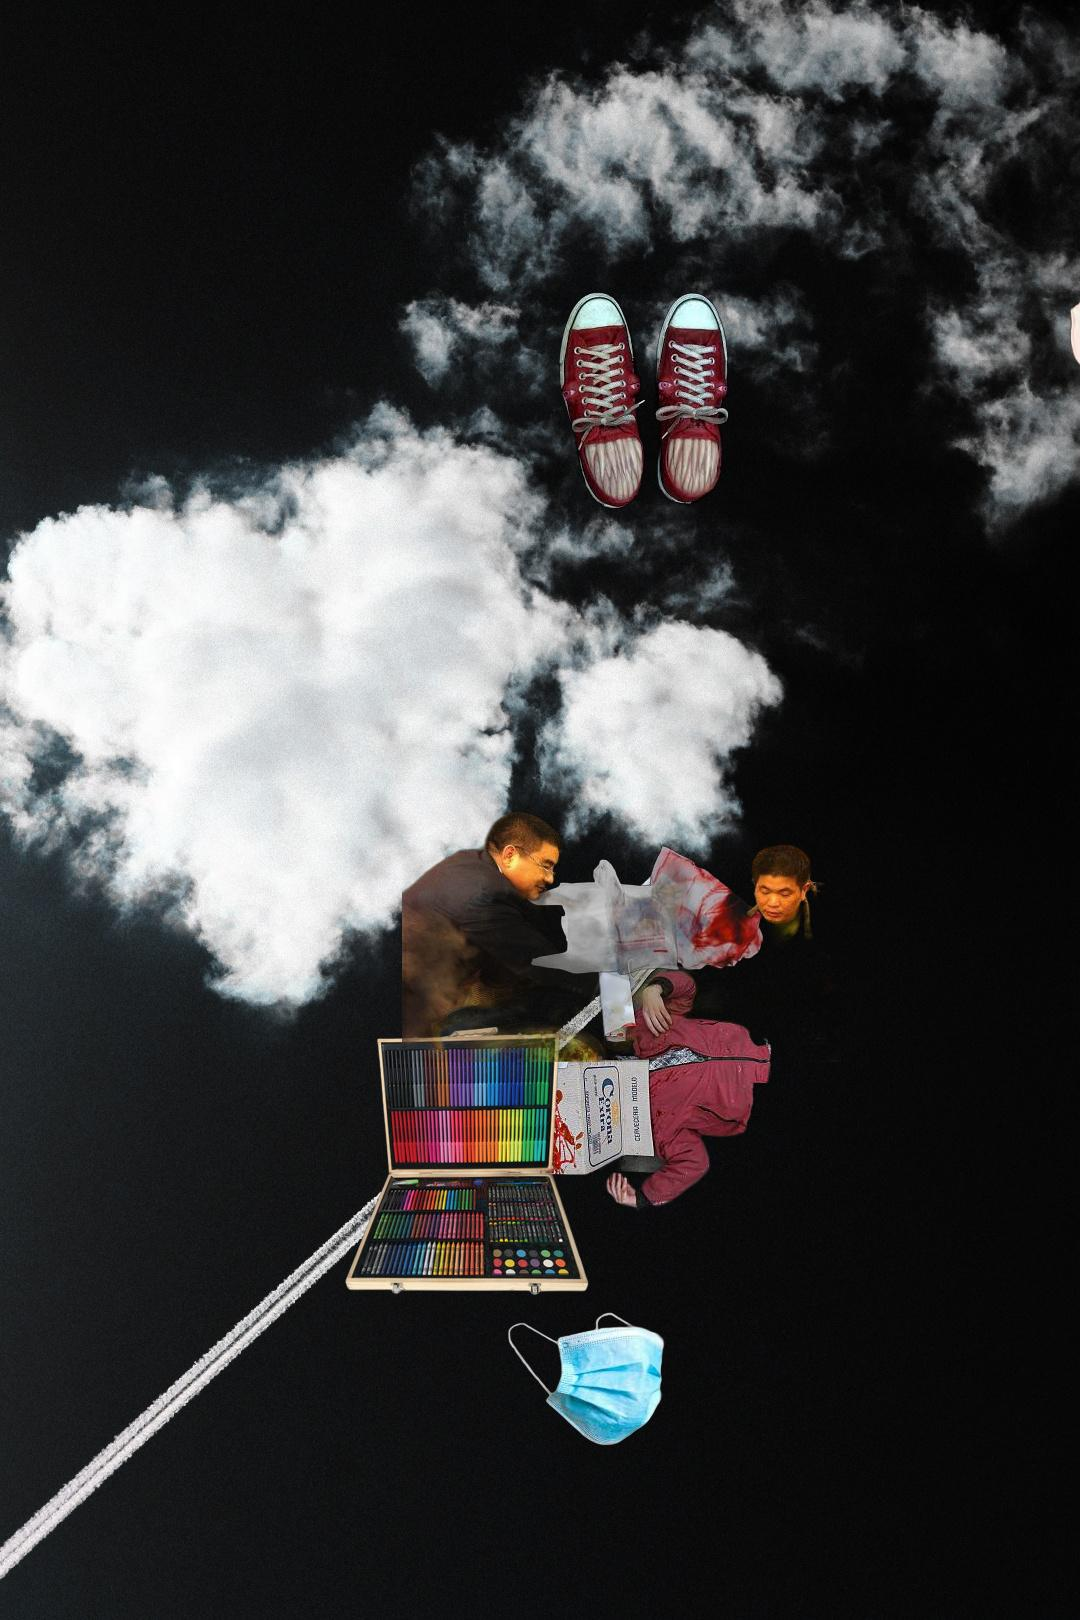biological: (403, 809, 841, 1062)
penholder: (342, 1025, 611, 1305)
plastic-bag: (526, 844, 765, 978)
shoes: (556, 289, 730, 511)
trash: (507, 1310, 667, 1448), (1068, 256, 1080, 432)
trashbox-cardboard: (507, 868, 777, 1215)
